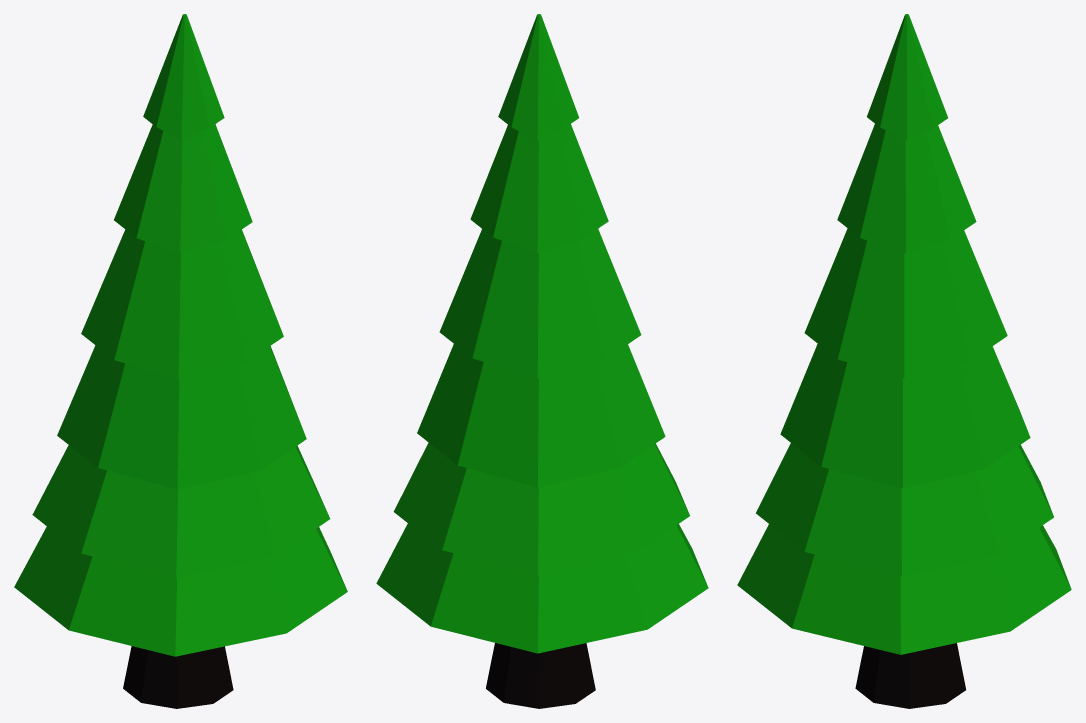
Rendered from Albero.fbx.
The picture shows the model from 3 angles, left to right: view 1: azimuth 30°, elevation 25°; view 2: azimuth 150°, elevation 25°; view 3: azimuth 270°, elevation 25°; orthographic projection.
Visible parts, largest first — view 1: Cylinder; view 2: Cylinder; view 3: Cylinder.
Boxes of the visible parts, <box> form: Cylinder: <box>14,14,347,708</box>; Cylinder: <box>376,14,708,708</box>; Cylinder: <box>737,14,1071,708</box>.
Bounding box in the file's own units: 228 × 512 × 231.
